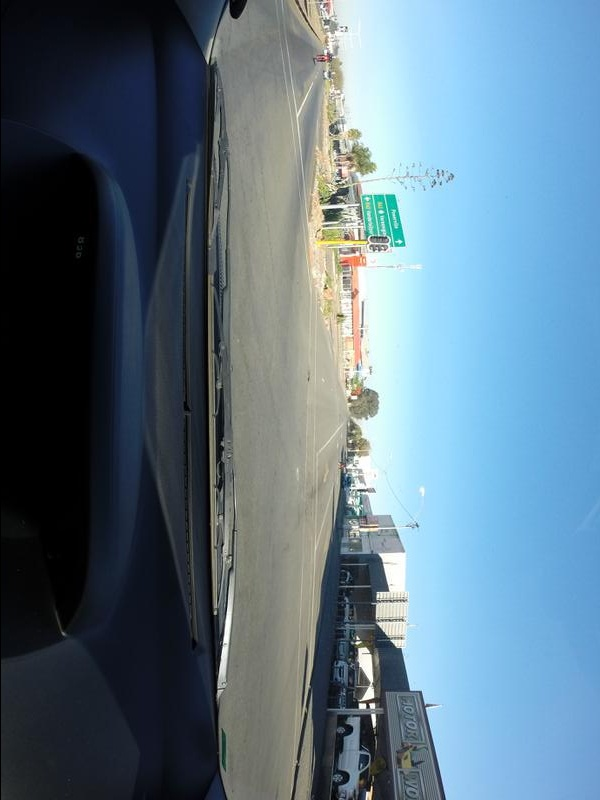pothole: (308, 369, 313, 390)
